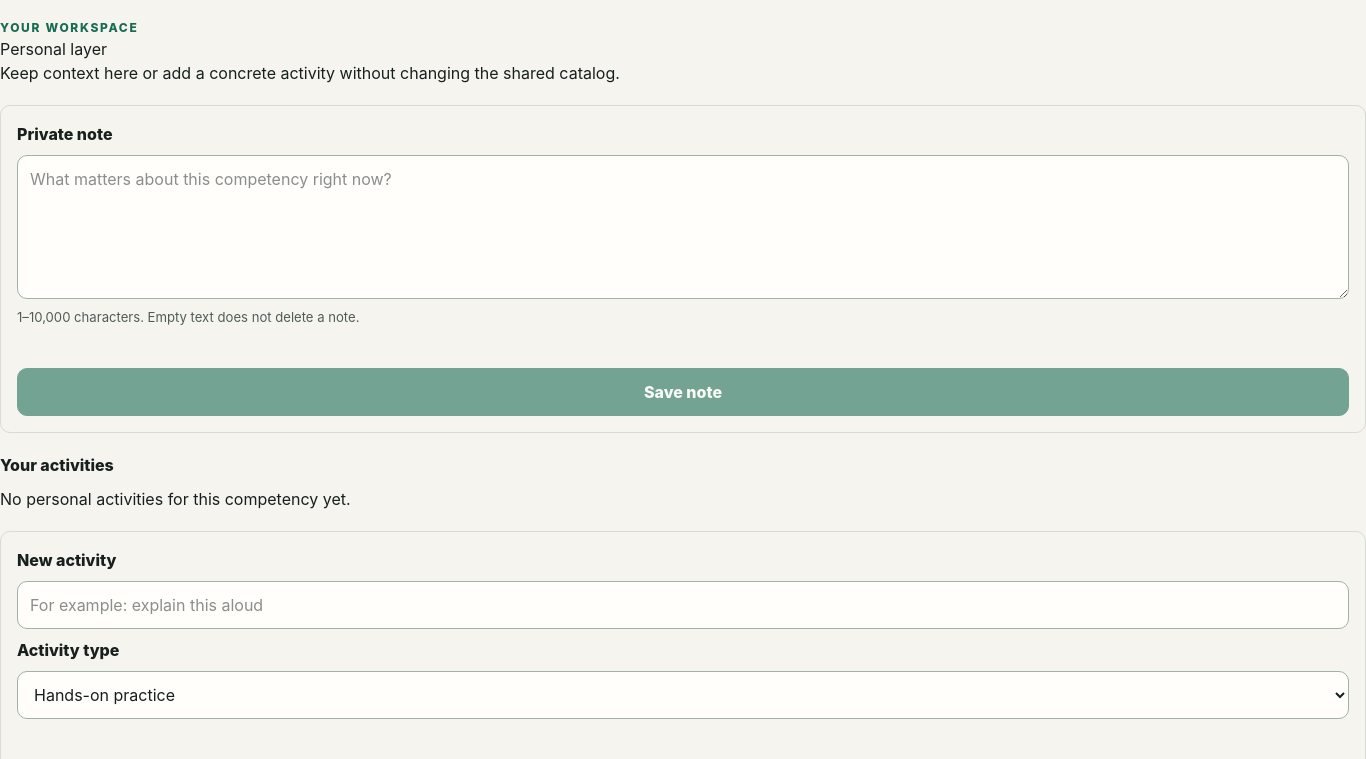
Scenario: CompetencyOverlayInspector › keeps all controls keyboard-reachable and blocks empty mutations
Check: the dropdown labelled "Activity type" is enabled, box [17, 671, 1349, 719]
Check: the button "Save note" is disabled, box [17, 368, 1349, 416]
Type "A useful note" into the text box labelled "Private note" at (683, 227), box [17, 155, 1349, 299]
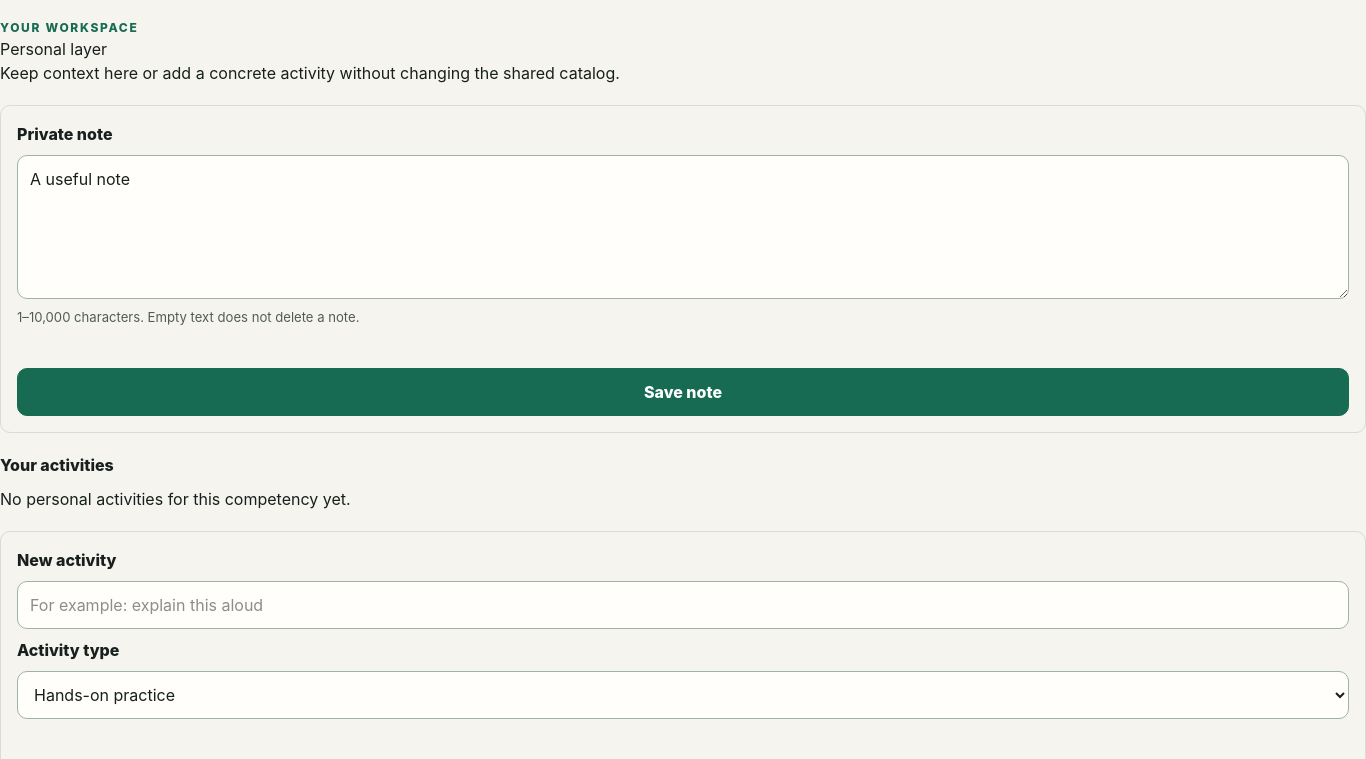
Type "Rehearse the explanation" into the field labelled "New activity" at (683, 605), box [17, 581, 1349, 629]
(page scrolled)
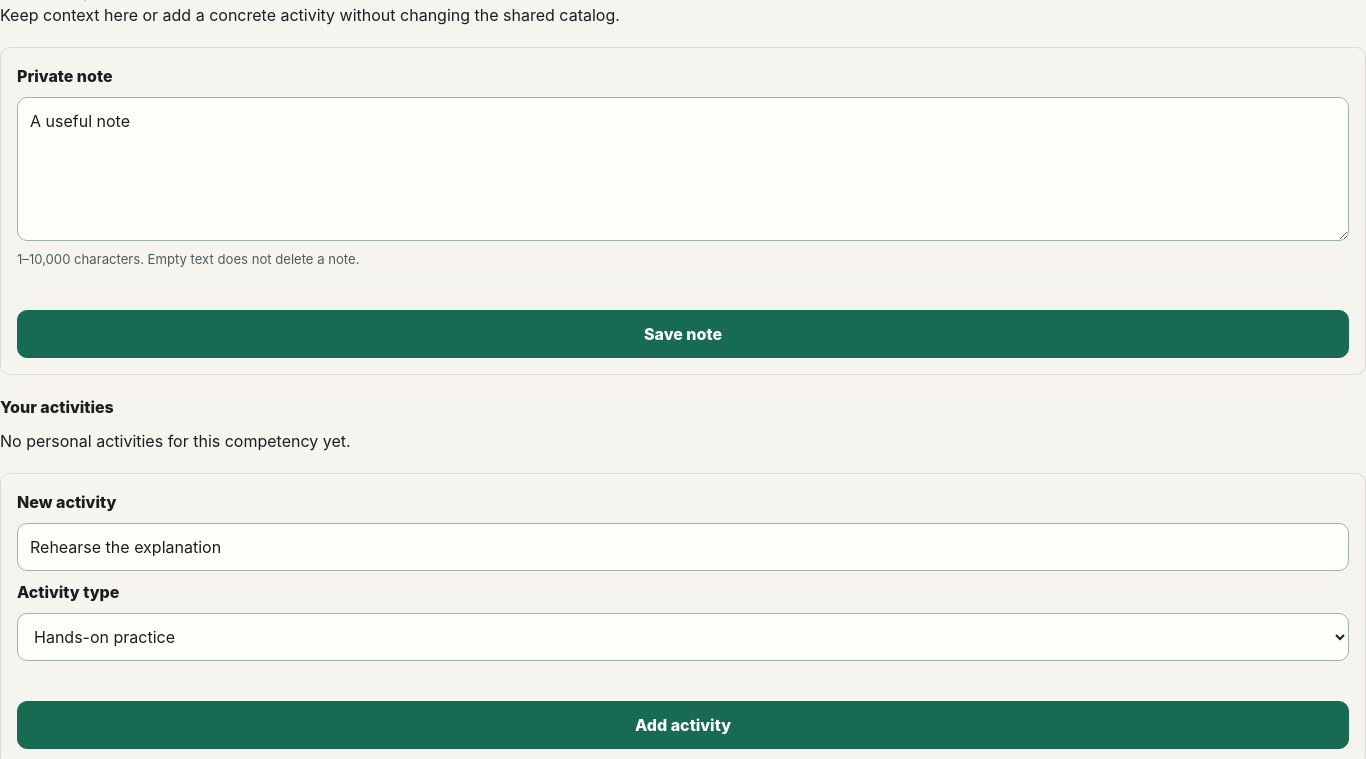
Check: the button "Save note" is enabled, box [17, 310, 1349, 358]
Check: the button "Add activity" is enabled, box [17, 701, 1349, 749]
